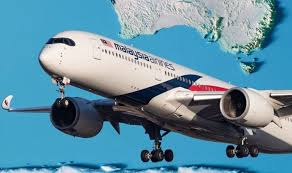maybay_dansu: (14, 30, 292, 165)
